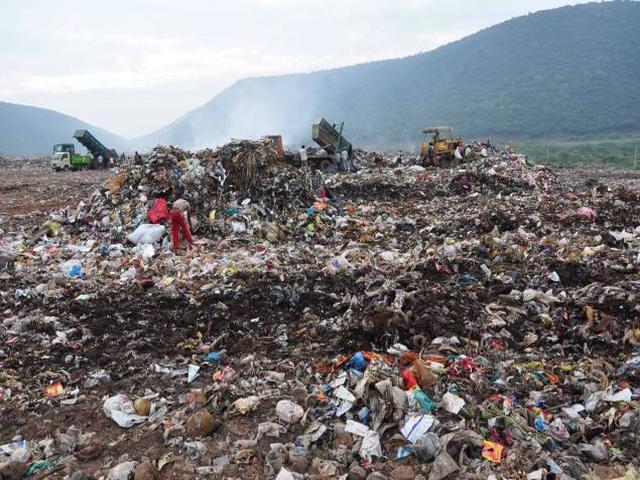garbage: (100, 171, 605, 462)
